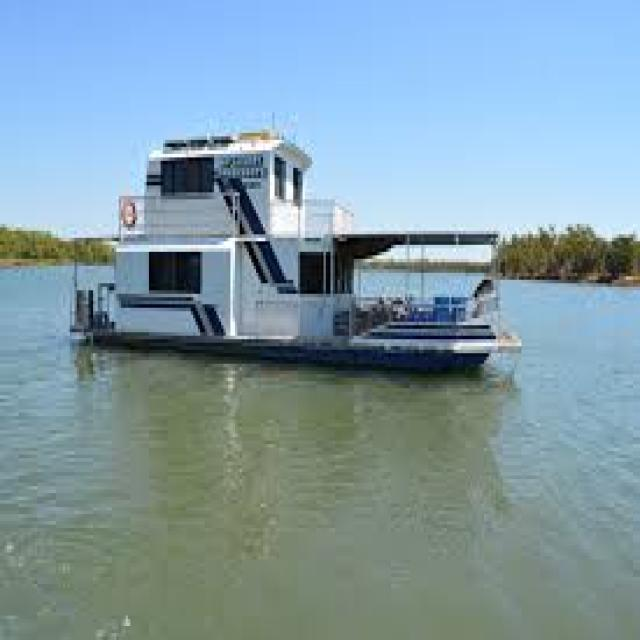houseboat: (64, 126, 518, 390)
